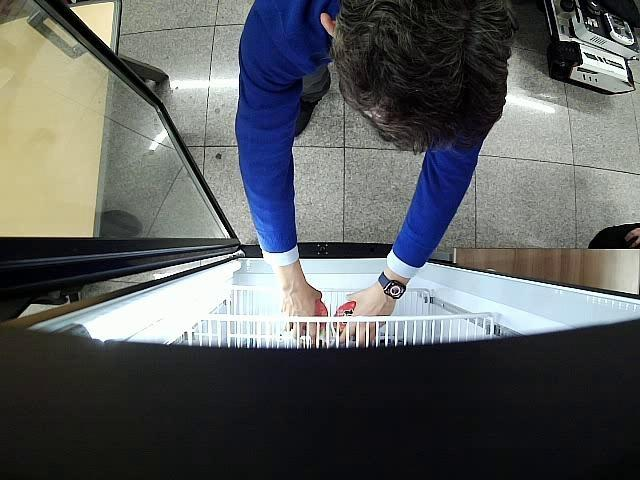02_shinRamen_S: (334, 301, 354, 340)
